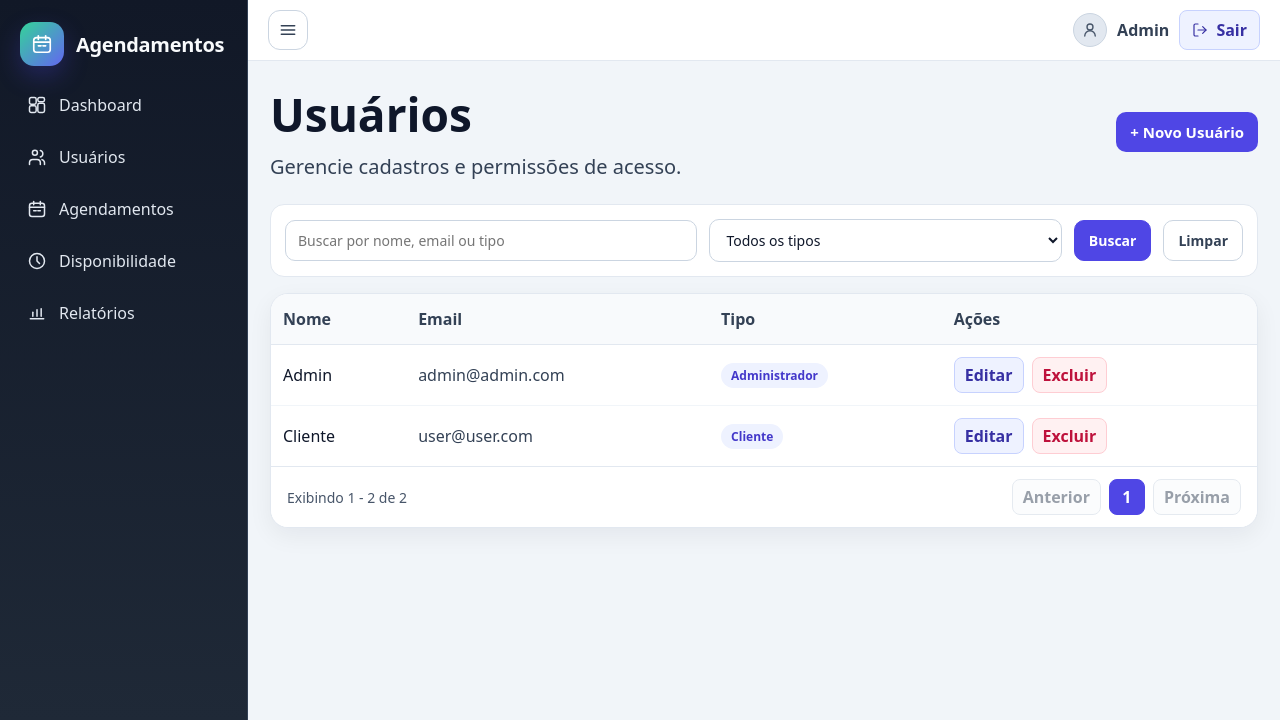
Test: Usuarios (RQF1.1) › admin visualiza todos os usuarios e pode excluir
The image size is (1280, 720).
Expected: the text "admin@admin.com" is shown, left=406, top=344, right=709, bottom=406
Expected: the text "user@user.com" is shown, left=406, top=406, right=709, bottom=466
Click the button "Excluir" in the row of "admin@admin.com" at (1069,375), box left=1032, top=357, right=1107, bottom=393
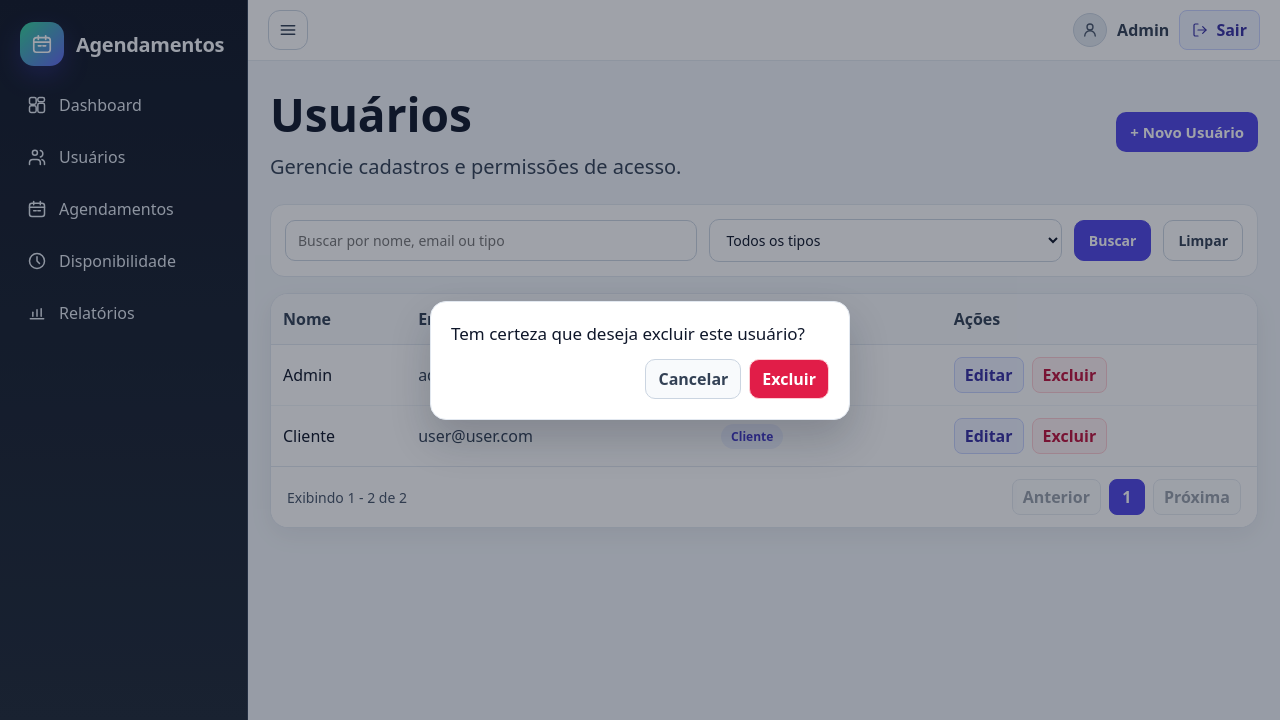
Expected: the text "Tem certeza que deseja excluir este usuário?" is shown, left=451, top=322, right=829, bottom=344
